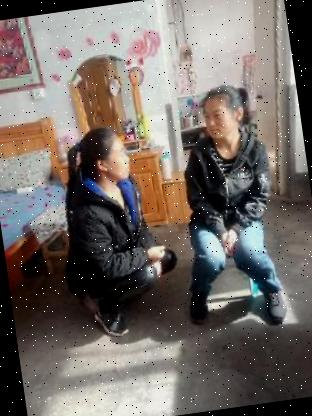person: (150, 75, 302, 339), (44, 114, 189, 348)
